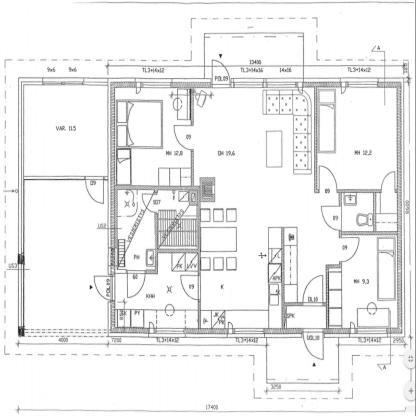door: (208, 58, 235, 95), (302, 327, 326, 362), (83, 174, 107, 206), (302, 274, 326, 306), (316, 164, 339, 196), (92, 273, 118, 300), (179, 273, 203, 302), (319, 203, 343, 232), (124, 269, 147, 299), (173, 123, 196, 152), (340, 236, 362, 262), (140, 190, 160, 214), (380, 170, 397, 194)
window: (232, 78, 306, 94), (348, 320, 392, 341), (39, 73, 88, 91), (338, 77, 380, 96), (147, 322, 186, 340), (132, 77, 174, 93), (226, 321, 264, 336)
